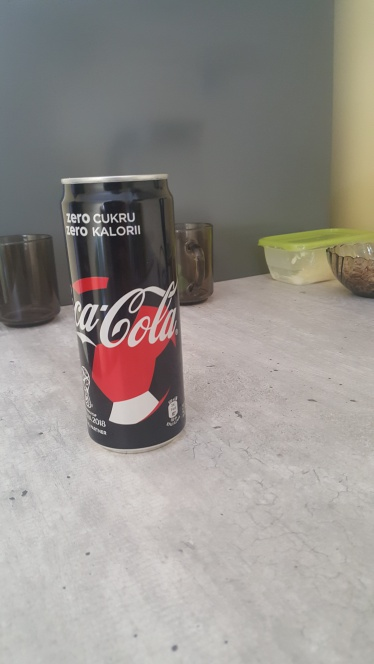colazero: (63, 176, 183, 455)
